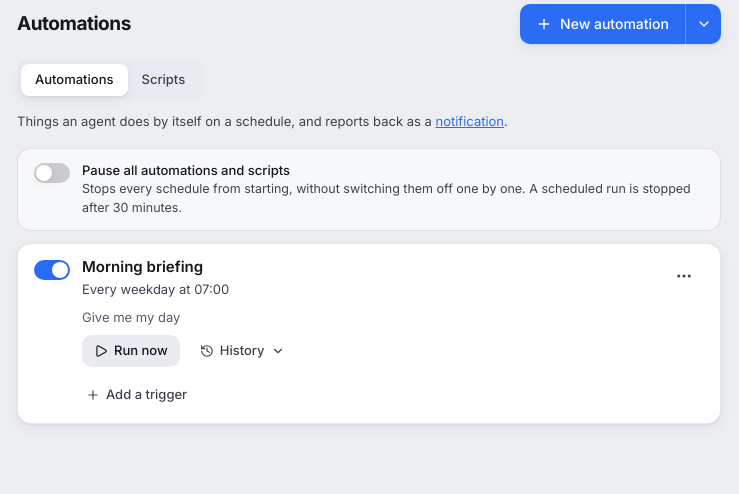
Test case: the automations page › says which event started a run
The image size is (739, 494).
Click the button "History": point(242, 351) [188, 335, 297, 367]
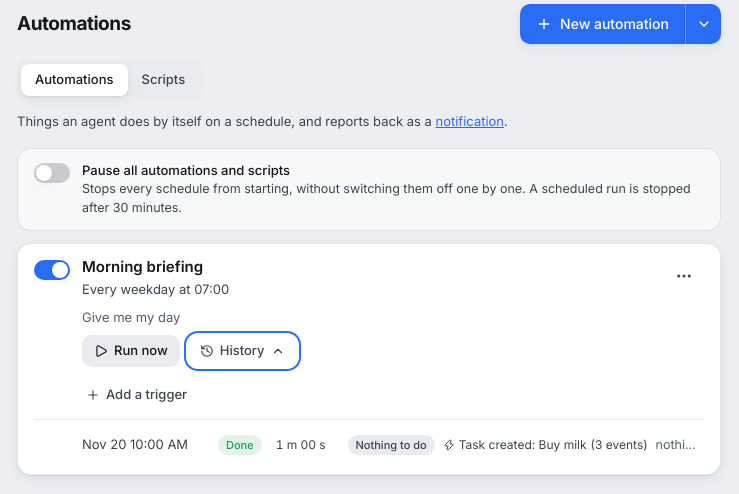
Expected: the text "Task created: Buy milk" is shown, [459, 436, 587, 454]
Expected: the text "(3 events)" is shown, [591, 436, 648, 454]
Expected: the icon named "Started by an event" is shown, [443, 439, 455, 451]
